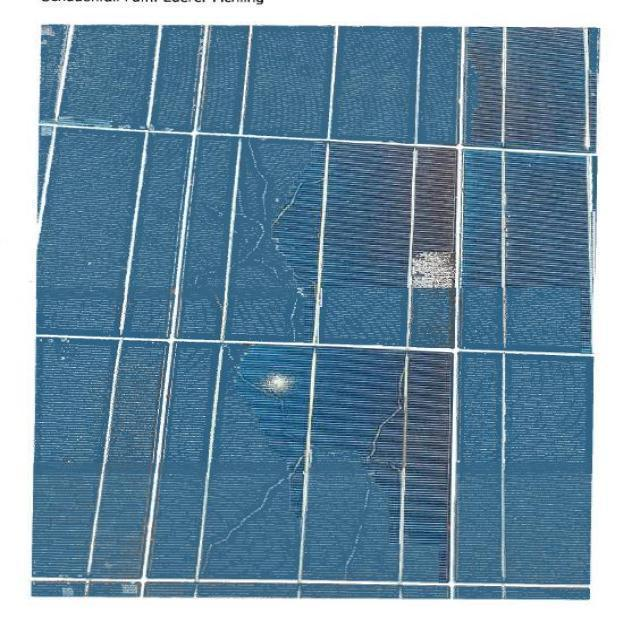Anomaly Solar Panel: (36, 20, 592, 599)
Structural Damage: (187, 443, 311, 576), (266, 174, 321, 284), (358, 365, 418, 465), (215, 345, 292, 419), (220, 184, 270, 269), (244, 135, 275, 221), (335, 523, 366, 580), (410, 249, 455, 286), (257, 367, 292, 399), (285, 288, 300, 339), (360, 487, 372, 509)
